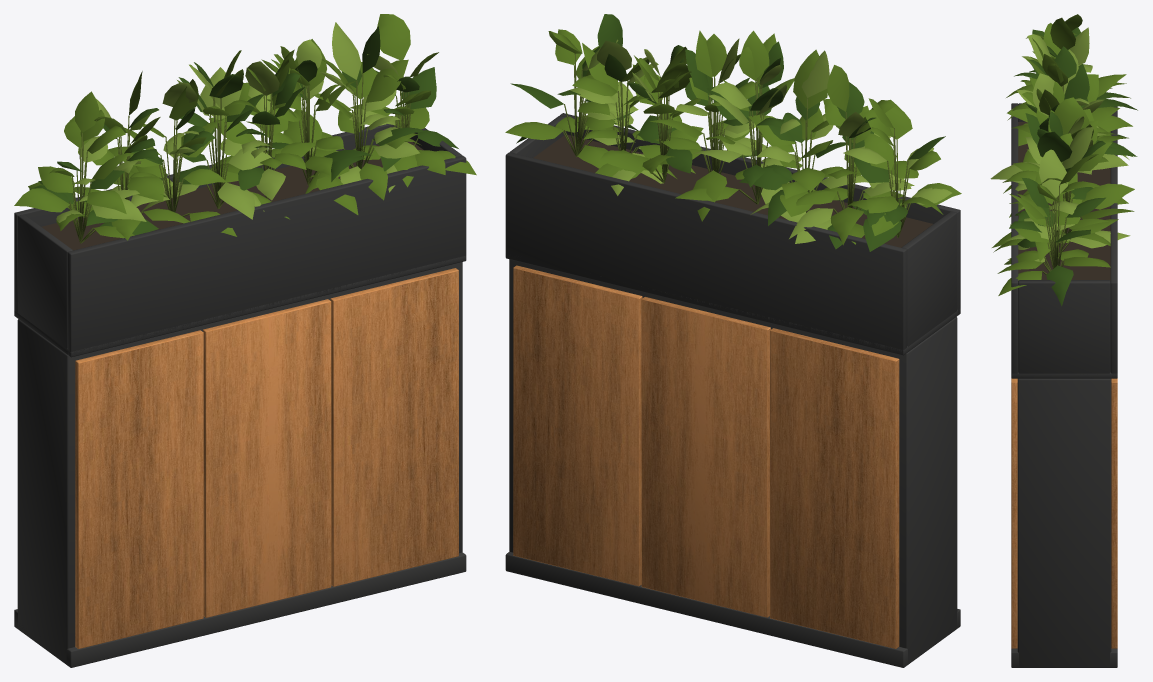
File: greenery.partition-with-planter.glb
3 views of the same model, side by side, from view 1: azimuth 30°, elevation 25°; view 2: azimuth 150°, elevation 25°; view 3: azimuth 270°, elevation 25° (orthographic). The views are drawn at different scales.
Visible parts, largest first — view 1: greenery.partition-with-planter.001; view 2: greenery.partition-with-planter.001; view 3: greenery.partition-with-planter.001.
Part boxes in pixels (x1,y1,x2,y2): greenery.partition-with-planter.001: [14, 14, 476, 667]; greenery.partition-with-planter.001: [505, 14, 961, 667]; greenery.partition-with-planter.001: [990, 14, 1137, 667].
Size of the model in its own units: 1.32 by 1.62 by 0.42.
7 materials, 1 textured.
